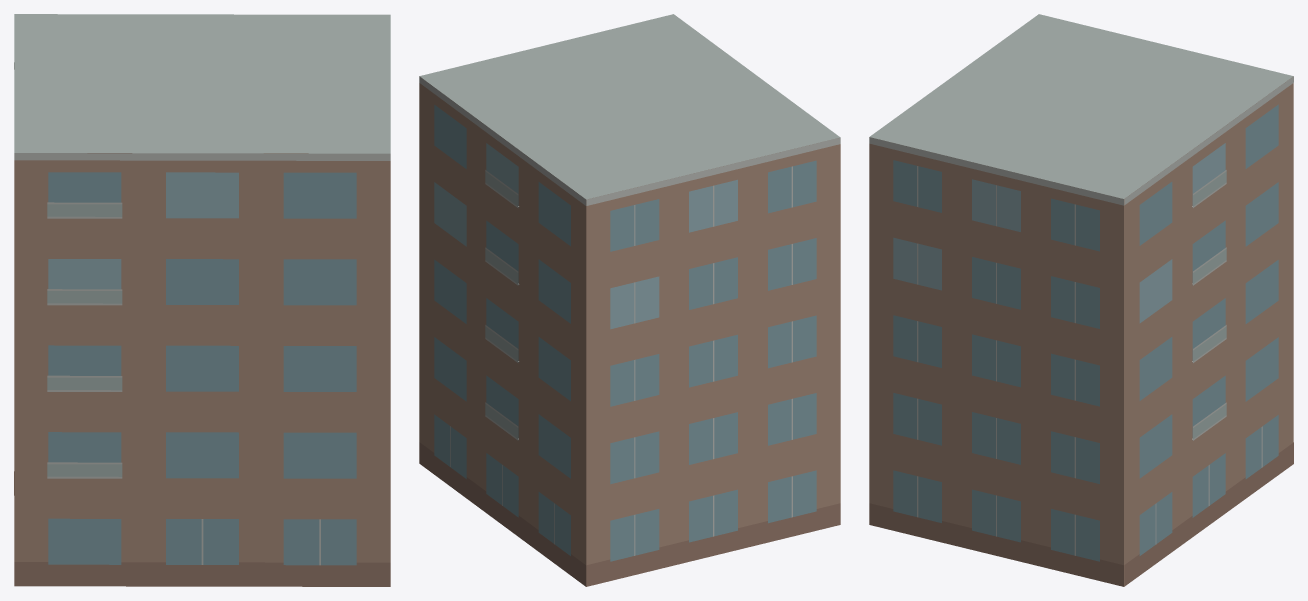
File: survey-upis-32890958.glb
3 renders of one model, left to right at view 1: azimuth 30°, elevation 25°; view 2: azimuth 150°, elevation 25°; view 3: azimuth 270°, elevation 25°, orthographic. The views are drawn at different scales.
Visible parts, largest first — view 1: survey-upis-32890958.tmp; view 2: survey-upis-32890958.tmp; view 3: survey-upis-32890958.tmp.
Part boxes in pixels (x1,y1,x2,y2): survey-upis-32890958.tmp: (14, 14, 390, 586); survey-upis-32890958.tmp: (419, 14, 840, 586); survey-upis-32890958.tmp: (869, 14, 1293, 586).
Bounding box in the file's own units: 14.64 × 14.3 × 14.19.
